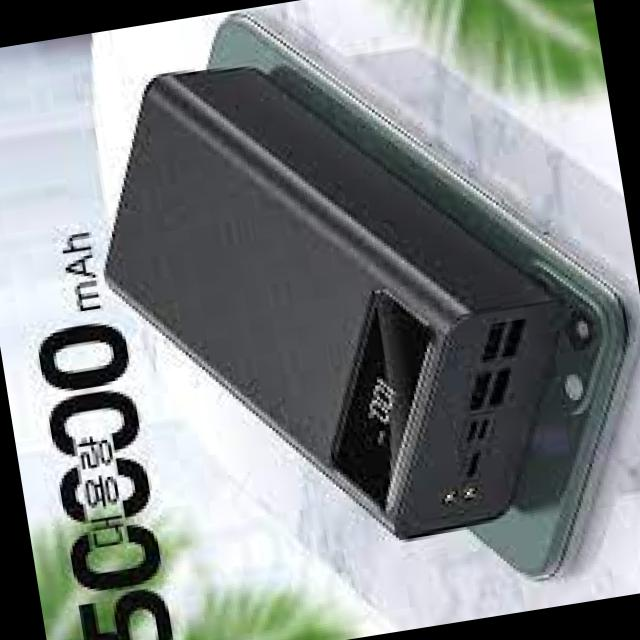portable-charger: (70, 14, 586, 582)
